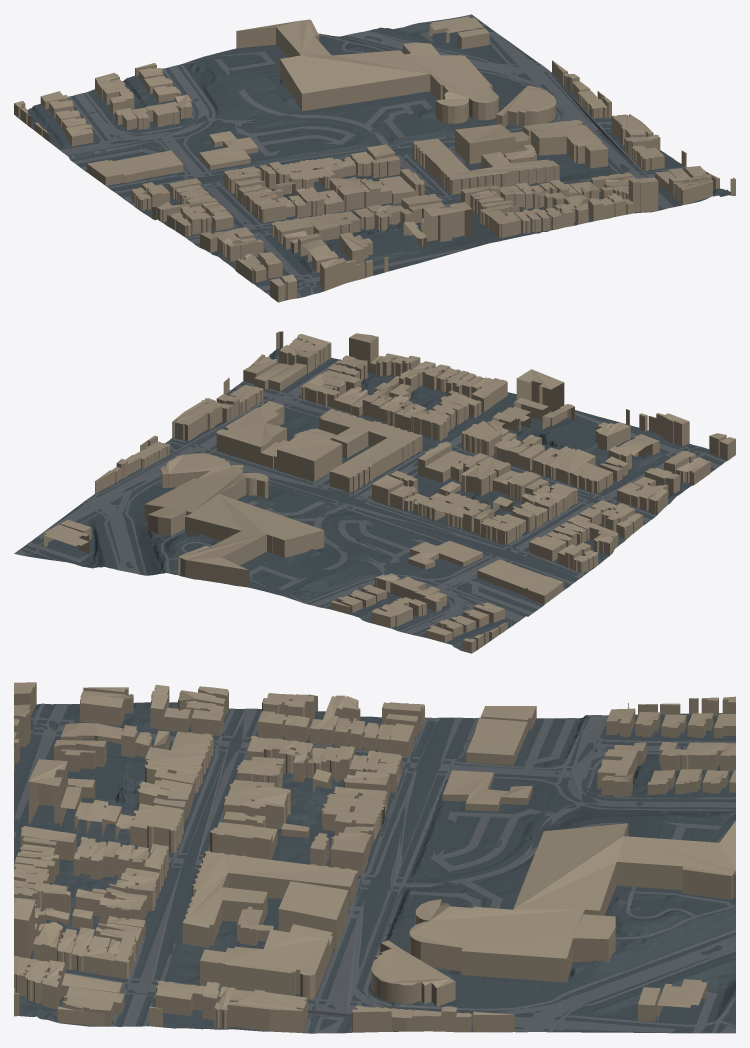
Rendered from epsg26910-1428-10891.lod0.glb.
The picture shows the model from 3 angles, top to bottom: view 1: azimuth 30°, elevation 25°; view 2: azimuth 150°, elevation 25°; view 3: azimuth 270°, elevation 25°; orthographic projection. The views are drawn at different scales.
Visible parts, largest first — view 1: epsg26910-1428-10891-lod0; view 2: epsg26910-1428-10891-lod0; view 3: epsg26910-1428-10891-lod0.
Part boxes in pixels (x1,y1,x2,y2): epsg26910-1428-10891-lod0: (14,14,735,302); epsg26910-1428-10891-lod0: (14,331,735,653); epsg26910-1428-10891-lod0: (14,682,735,1033).
Bounding box in the file's own units: 384 × 46.93 × 384.
